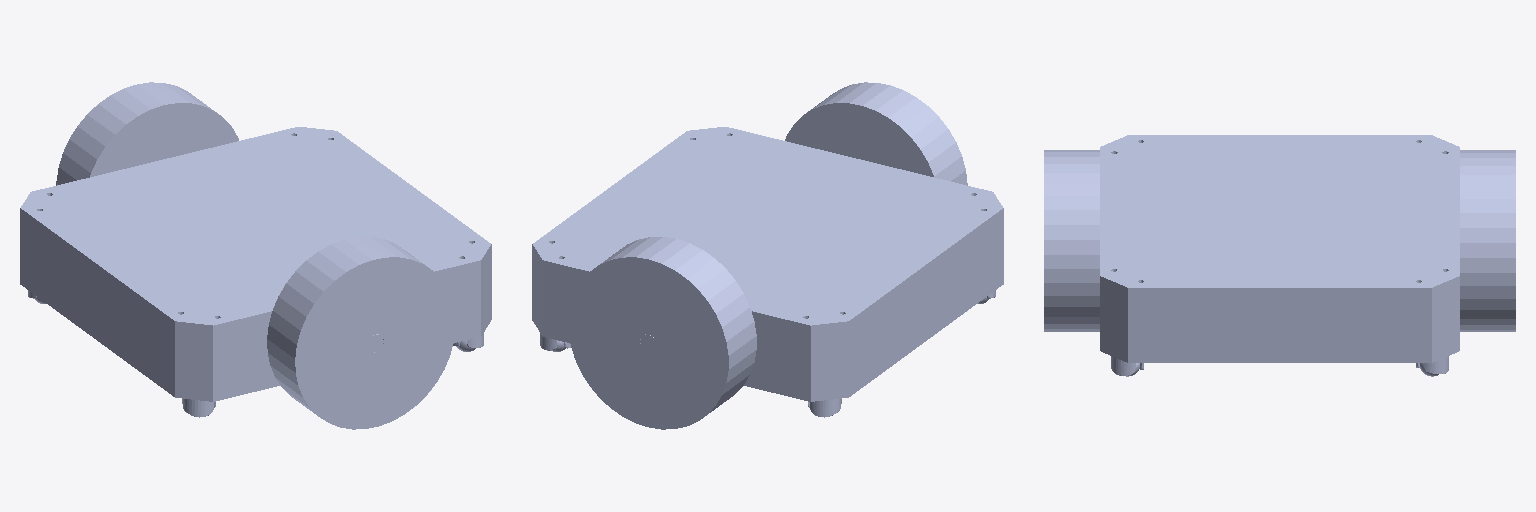
The robot description file, URDF, robot "diff_robot_chulu_v2":
<?xml version="1.0" encoding="utf-8"?>
<!-- This URDF was automatically created by SolidWorks to URDF Exporter! Originally created by [author] ([email redacted]) 
     Commit Version: 1.6.0-4-g7f85cfe  Build Version: 1.6.7995.38578
     For more information, please see http://wiki.ros.org/sw_urdf_exporter -->
<robot
  name="diff_robot_chulu_v2">
  <link
    name="base_link">
    <inertial>
      <origin
        xyz="1.50455504081461E-07 1.47788578496626E-07 -0.0151030876530591"
        rpy="0 0 0" />
      <mass
        value="0.504564249835671" />
      <inertia
        ixx="0.000734338638391148"
        ixy="-6.564903509269E-20"
        ixz="2.47895780960549E-10"
        iyy="0.000725633025312158"
        iyz="2.45092924297379E-10"
        izz="0.00138504235733951" />
    </inertial>
    <visual>
      <origin
        xyz="0 0 0"
        rpy="0 0 0" />
      <geometry>
        <mesh
          filename="package://diff_robot_chulu_v2/meshes/base_link.STL" />
      </geometry>
      <material
        name="">
        <color
          rgba="0.792156862745098 0.819607843137255 0.933333333333333 1" />
      </material>
    </visual>
    <collision>
      <origin
        xyz="0 0 0"
        rpy="0 0 0" />
      <geometry>
        <mesh
          filename="package://diff_robot_chulu_v2/meshes/base_link.STL" />
      </geometry>
    </collision>
  </link>
  <link
    name="right_wheel_Link">
    <inertial>
      <origin
        xyz="3.67608169476824E-18 -0.075 -0.01175"
        rpy="0 0 0" />
      <mass
        value="0.0676541977950615" />
      <inertia
        ixx="2.08811862569563E-05"
        ixy="-3.58444932106319E-23"
        ixz="3.36922618837639E-22"
        iyy="3.72520926609085E-05"
        iyz="-8.82325986723232E-24"
        izz="2.08811862569563E-05" />
    </inertial>
    <visual>
      <origin
        xyz="0 0 0"
        rpy="0 0 0" />
      <geometry>
        <mesh
          filename="package://diff_robot_chulu_v2/meshes/right_wheel_Link.STL" />
      </geometry>
      <material
        name="">
        <color
          rgba="0.792156862745098 0.819607843137255 0.933333333333333 1" />
      </material>
    </visual>
    <collision>
      <origin
        xyz="0 0 0"
        rpy="0 0 0" />
      <geometry>
        <mesh
          filename="package://diff_robot_chulu_v2/meshes/right_wheel_Link.STL" />
      </geometry>
    </collision>
  </link>
  <joint
    name="right_wheel_Joint"
    type="continuous">
    <origin
      xyz="0 0 0"
      rpy="0 0 0" />
    <parent
      link="base_link" />
    <child
      link="right_wheel_Link" />
    <axis
      xyz="0 -1 0" />
    <limit
      lower="0"
      upper="0"
      effort="30"
      velocity="30" />
  </joint>
  <link
    name="left_wheel_Link">
    <inertial>
      <origin
        xyz="6.45128120695332E-18 0.075 -0.01175"
        rpy="0 0 0" />
      <mass
        value="0.0676541977950615" />
      <inertia
        ixx="2.08811862569563E-05"
        ixy="-4.41162993361645E-24"
        ixz="-6.95527924893442E-21"
        iyy="3.72520926609085E-05"
        iyz="8.82325986723246E-24"
        izz="2.08811862569563E-05" />
    </inertial>
    <visual>
      <origin
        xyz="0 0 0"
        rpy="0 0 0" />
      <geometry>
        <mesh
          filename="package://diff_robot_chulu_v2/meshes/left_wheel_Link.STL" />
      </geometry>
      <material
        name="">
        <color
          rgba="0.792156862745098 0.819607843137255 0.933333333333333 1" />
      </material>
    </visual>
    <collision>
      <origin
        xyz="0 0 0"
        rpy="0 0 0" />
      <geometry>
        <mesh
          filename="package://diff_robot_chulu_v2/meshes/left_wheel_Link.STL" />
      </geometry>
    </collision>
  </link>
  <joint
    name="left_wheel_Joint"
    type="continuous">
    <origin
      xyz="0 0 0"
      rpy="0 0 0" />
    <parent
      link="base_link" />
    <child
      link="left_wheel_Link" />
    <axis
      xyz="0 1 0" />
    <limit
      lower="0"
      upper="0"
      effort="30"
      velocity="30" />
  </joint>
</robot>

--- What the picture shows (computed from the rendered views, not written in the file) ---
The picture shows the robot from 3 angles, left to right: view 1: azimuth 30°, elevation 25°; view 2: azimuth 150°, elevation 25°; view 3: azimuth 270°, elevation 25°; orthographic projection.
Robot: diff_robot_chulu_v2 — 3 links, 2 joints (2 continuous); root link base_link; default pose: all joints at 0.
Links seen in each view (by area): view 1: base_link, right_wheel_Link, left_wheel_Link; view 2: base_link, left_wheel_Link, right_wheel_Link; view 3: base_link, right_wheel_Link, left_wheel_Link.
Boxes of the visible links, x1=… form: base_link: x1=20, y1=127, x2=491, y2=417; right_wheel_Link: x1=267, y1=237, x2=455, y2=429; left_wheel_Link: x1=56, y1=82, x2=238, y2=185; base_link: x1=532, y1=127, x2=1003, y2=417; left_wheel_Link: x1=568, y1=237, x2=756, y2=429; right_wheel_Link: x1=785, y1=82, x2=967, y2=185; base_link: x1=1100, y1=135, x2=1459, y2=376; right_wheel_Link: x1=1044, y1=150, x2=1099, y2=331; left_wheel_Link: x1=1460, y1=150, x2=1515, y2=331.
Size in the robot's own frame: 0.13 by 0.17 by 0.066 metres.
Meshes: 3 distinct files referenced, 3 mesh visuals loaded (3 binary STL).
